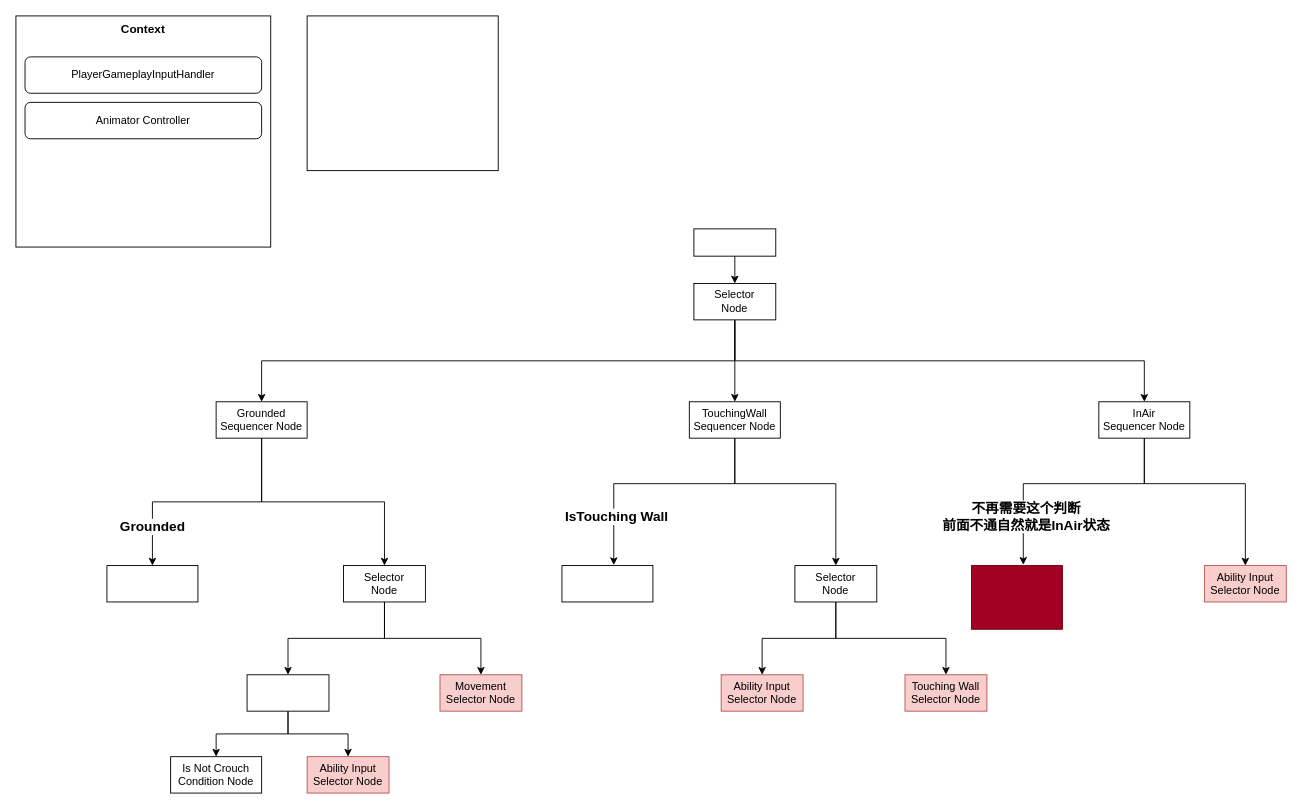
Some shapes in this 1302 by 809 pixel diagram are drawn without their labels. The shapes that lost their labels are listed below. From the top down, each one's centre as x and y in pixels, then its label:
the point at 402,93: Blackboard
the point at 734,242: RootNode
the point at 152,583: Grounded Condition Node
the point at 607,583: IsTouching Wall Condition Node
the point at 1016,597: 不需要这个判断！ InAir Condition Node
the point at 287,692: Sequencer Node
